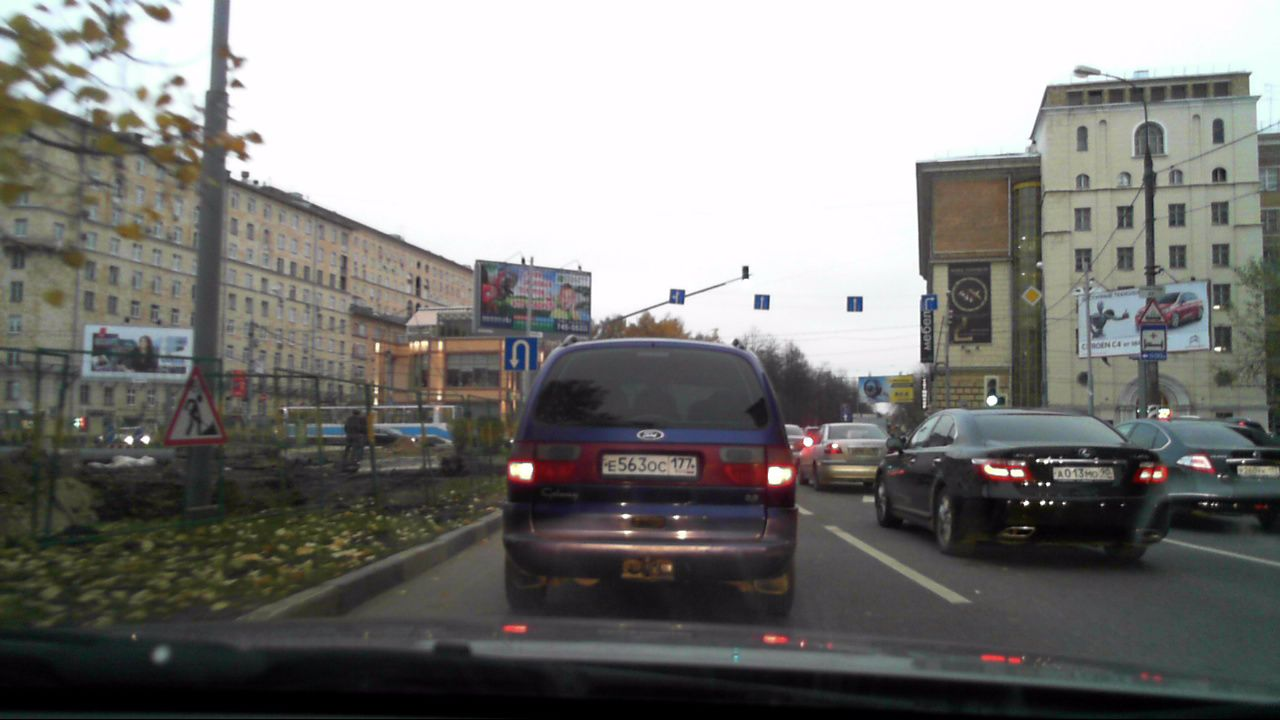U-turn: (505, 338, 535, 371)
